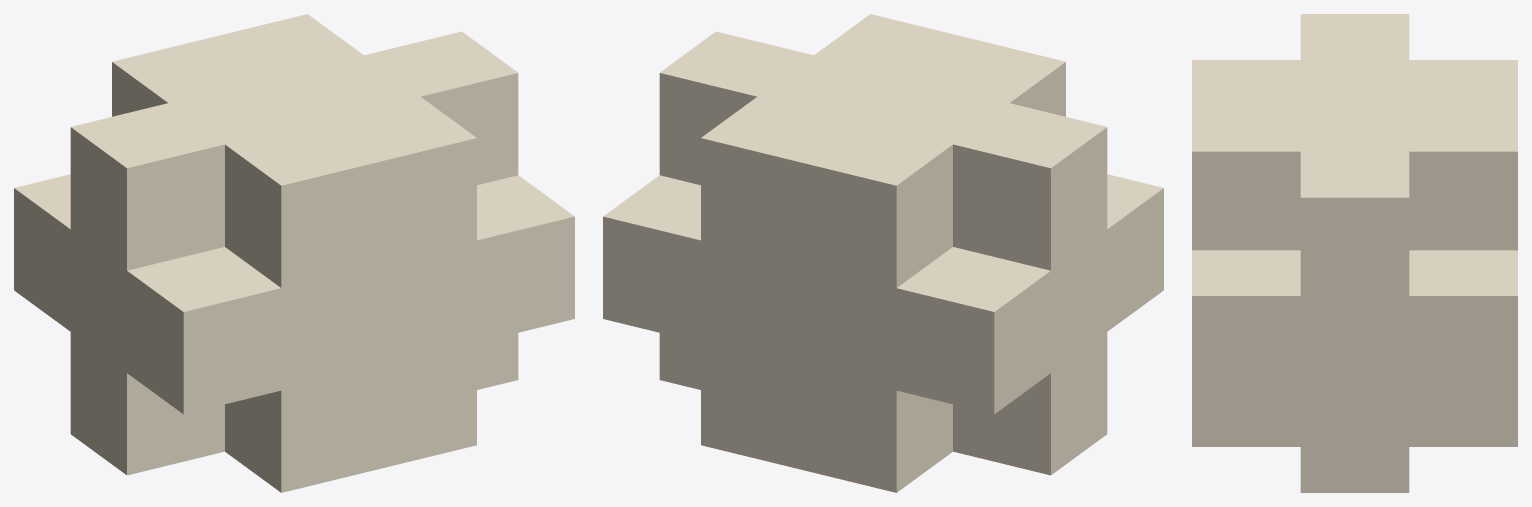
File: sheep__tail.glb
3 views of the same model, side by side, from view 1: azimuth 30°, elevation 25°; view 2: azimuth 150°, elevation 25°; view 3: azimuth 270°, elevation 25° (orthographic). The views are drawn at different scales.
Parts seen in each view (by area): view 1: sheep__tail; view 2: sheep__tail; view 3: sheep__tail.
Boxes of the visible parts, box(x1,y1,x2,y2) form: sheep__tail: box(14, 14, 574, 492); sheep__tail: box(603, 14, 1163, 492); sheep__tail: box(1192, 14, 1517, 492).
Bounding box in the file's own units: 0.4 × 0.3 × 0.3.
Materials: 1 (1 with a texture image).
